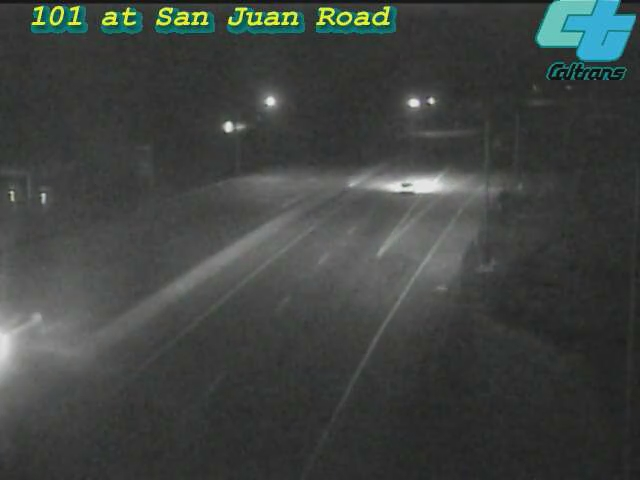vehicle: (1, 289, 60, 399), (367, 146, 447, 226)
